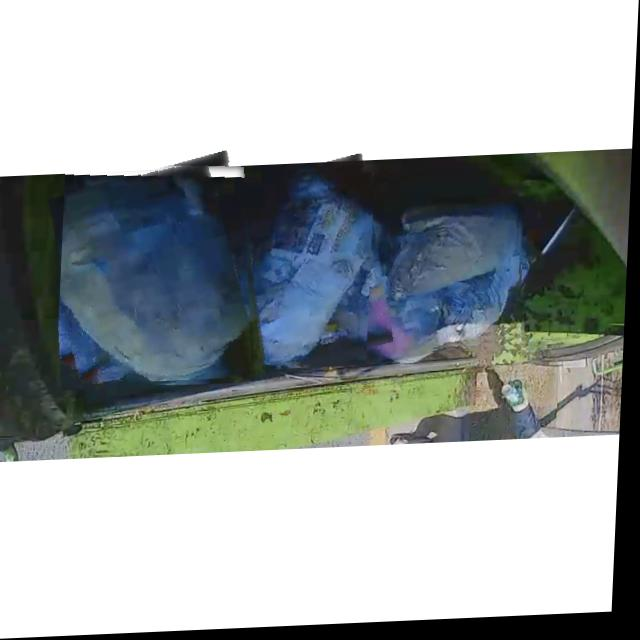other_trashbag: (64, 166, 255, 383), (239, 174, 374, 370), (393, 207, 522, 303), (409, 257, 525, 355)
